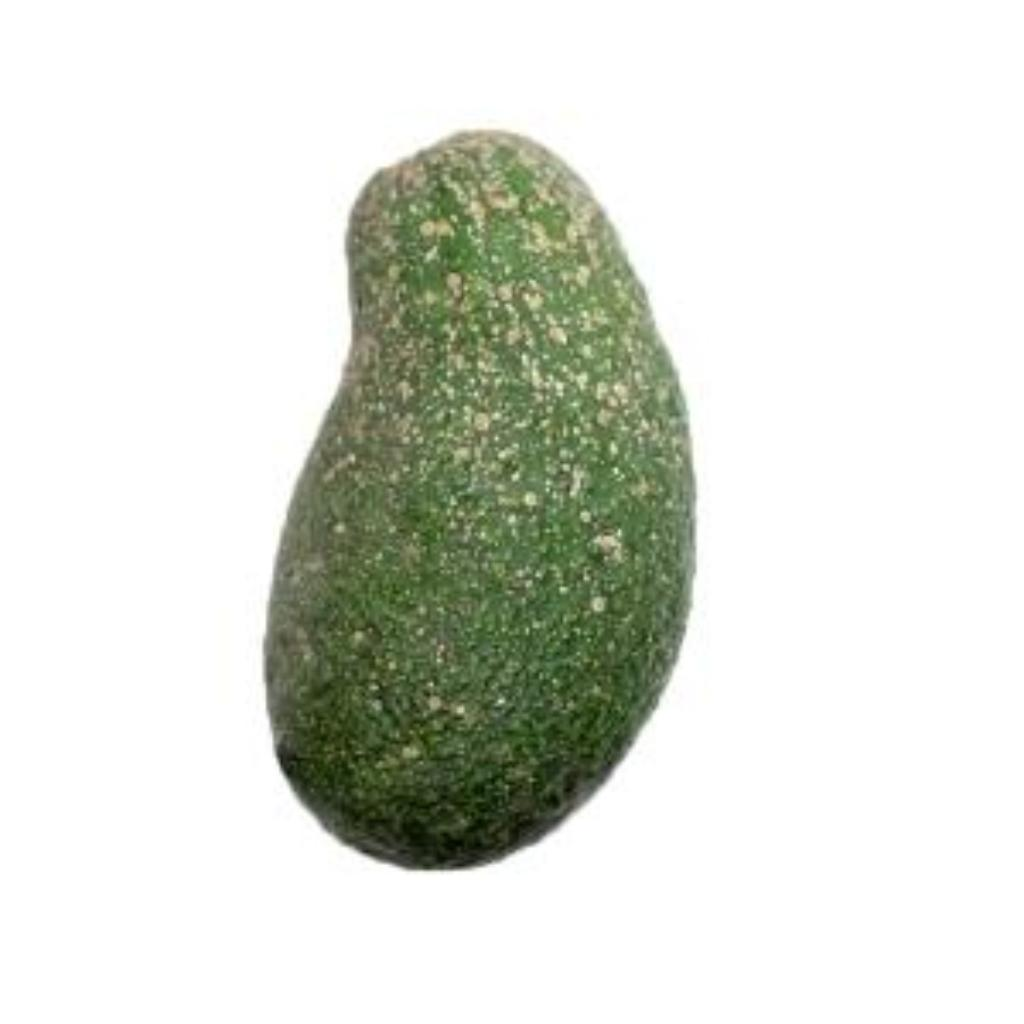cercospora_spot: (228, 119, 700, 877)
